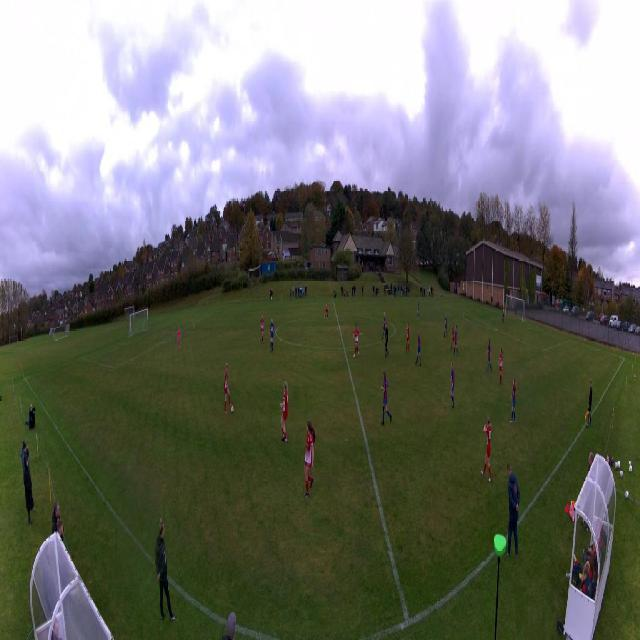ball: (231, 405, 234, 413)
player: (304, 420, 316, 502), (481, 418, 493, 484), (381, 371, 392, 427), (280, 380, 289, 445), (223, 363, 232, 414), (510, 379, 517, 428), (353, 323, 363, 357), (450, 361, 455, 409), (498, 349, 504, 385), (383, 323, 389, 358), (486, 339, 492, 373), (415, 329, 420, 369), (269, 320, 275, 351), (405, 323, 410, 354), (454, 326, 458, 356), (260, 315, 264, 345), (382, 311, 386, 339), (451, 324, 455, 350), (177, 325, 181, 350), (444, 313, 448, 338), (324, 301, 328, 320), (417, 299, 420, 319), (502, 306, 505, 325)
